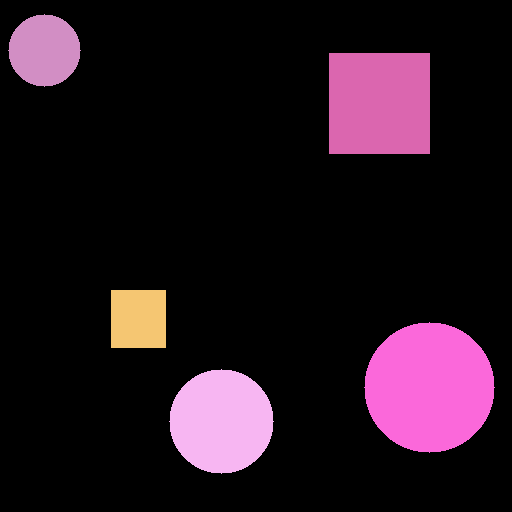circle: (364, 322, 494, 452), (169, 369, 273, 473), (8, 14, 80, 86)
square: (329, 53, 429, 153), (111, 290, 165, 347)
